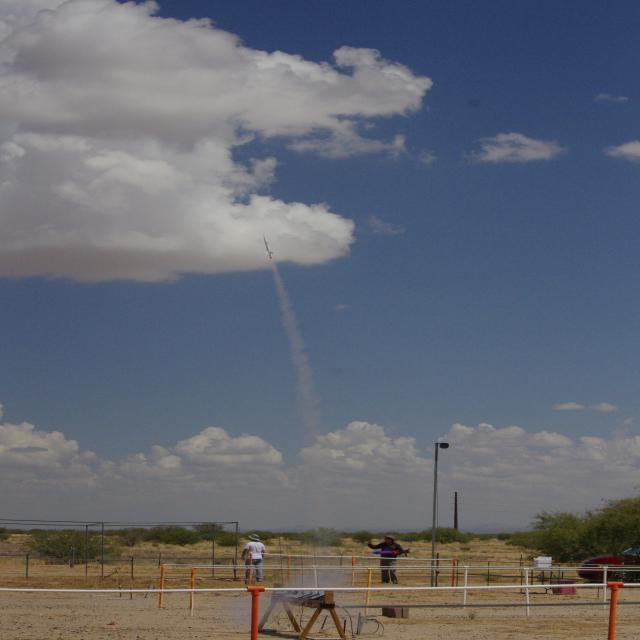Rocket: (371, 548, 412, 556), (263, 235, 274, 259)
